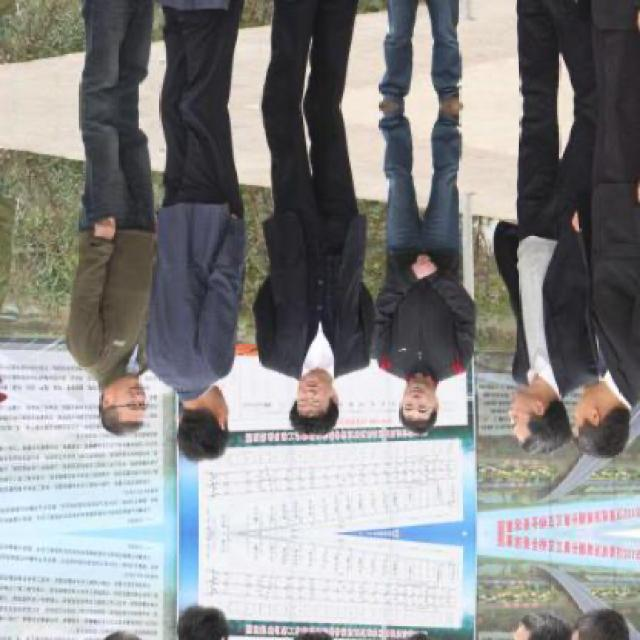sin casco: (174, 367, 245, 495), (566, 356, 640, 468), (500, 385, 586, 472), (270, 356, 349, 448), (90, 338, 149, 456), (387, 341, 445, 441)
